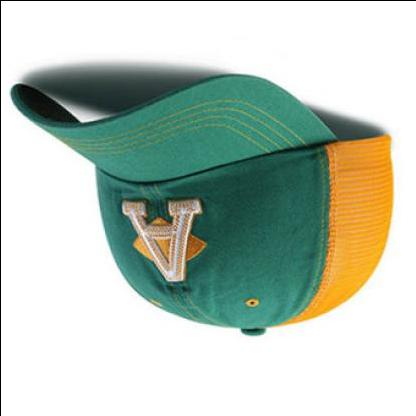cap: (8, 61, 398, 343)
